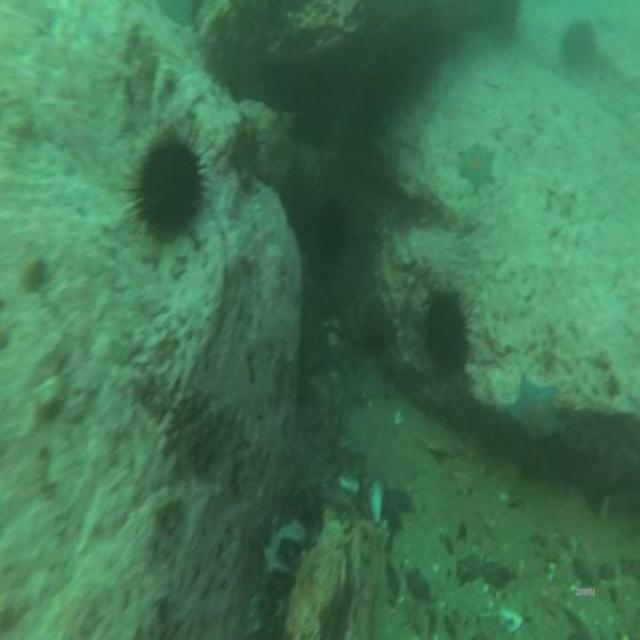echinus: (138, 144, 202, 237), (428, 291, 466, 371), (315, 196, 345, 265), (559, 20, 596, 70)
starfish: (506, 376, 562, 446), (458, 139, 492, 190), (230, 131, 258, 185)
